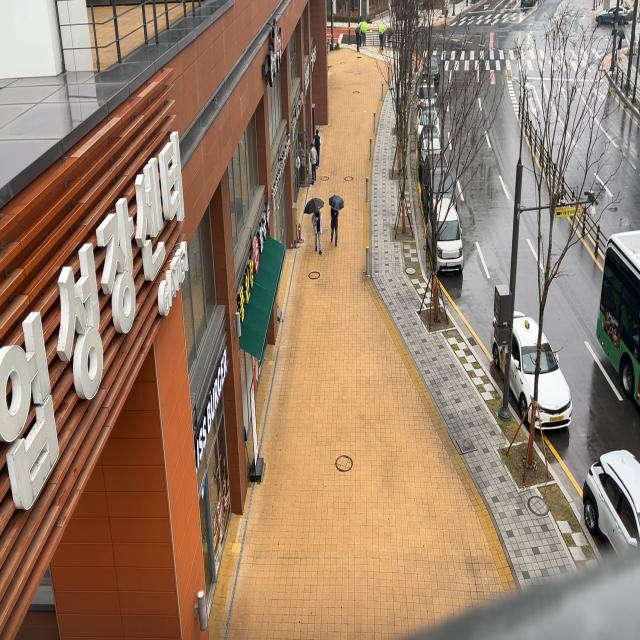Bus: (593, 230, 640, 410)
Car: (484, 290, 576, 430), (583, 448, 640, 556), (426, 197, 470, 280), (420, 153, 460, 221), (415, 105, 443, 145), (417, 127, 444, 166), (422, 46, 448, 85), (416, 76, 436, 112)
